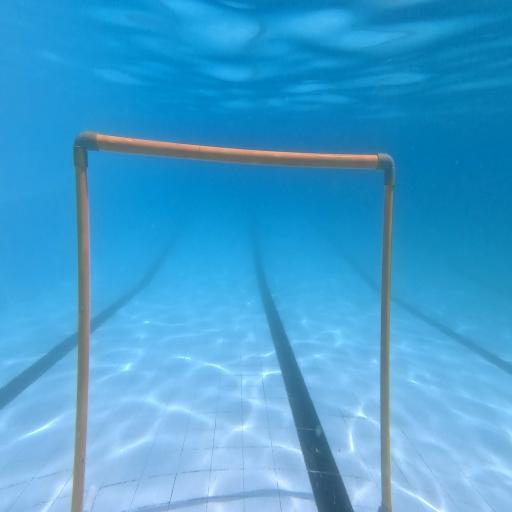gate: (72, 133, 392, 512)
